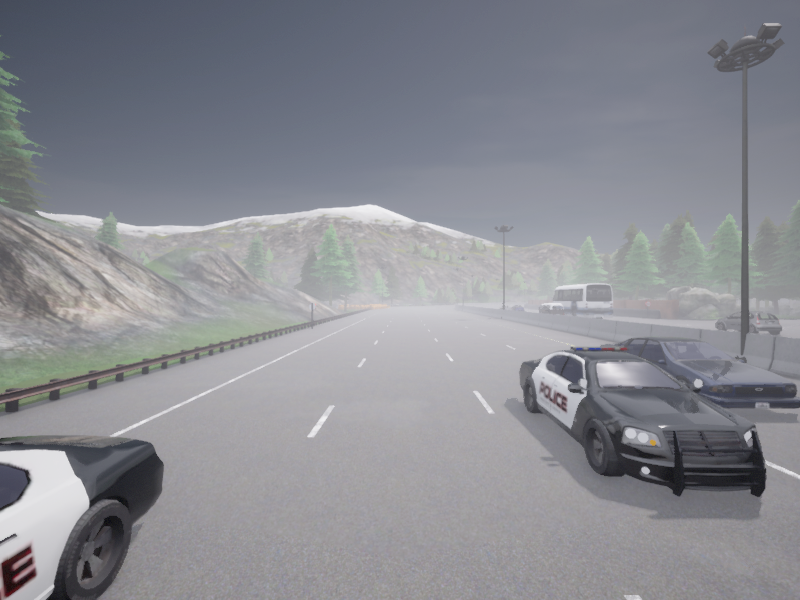vehicle: (519, 346, 765, 496), (0, 435, 163, 599), (600, 336, 799, 408), (549, 283, 612, 318), (716, 311, 781, 334), (538, 303, 564, 314), (512, 305, 523, 310), (499, 305, 511, 309)
